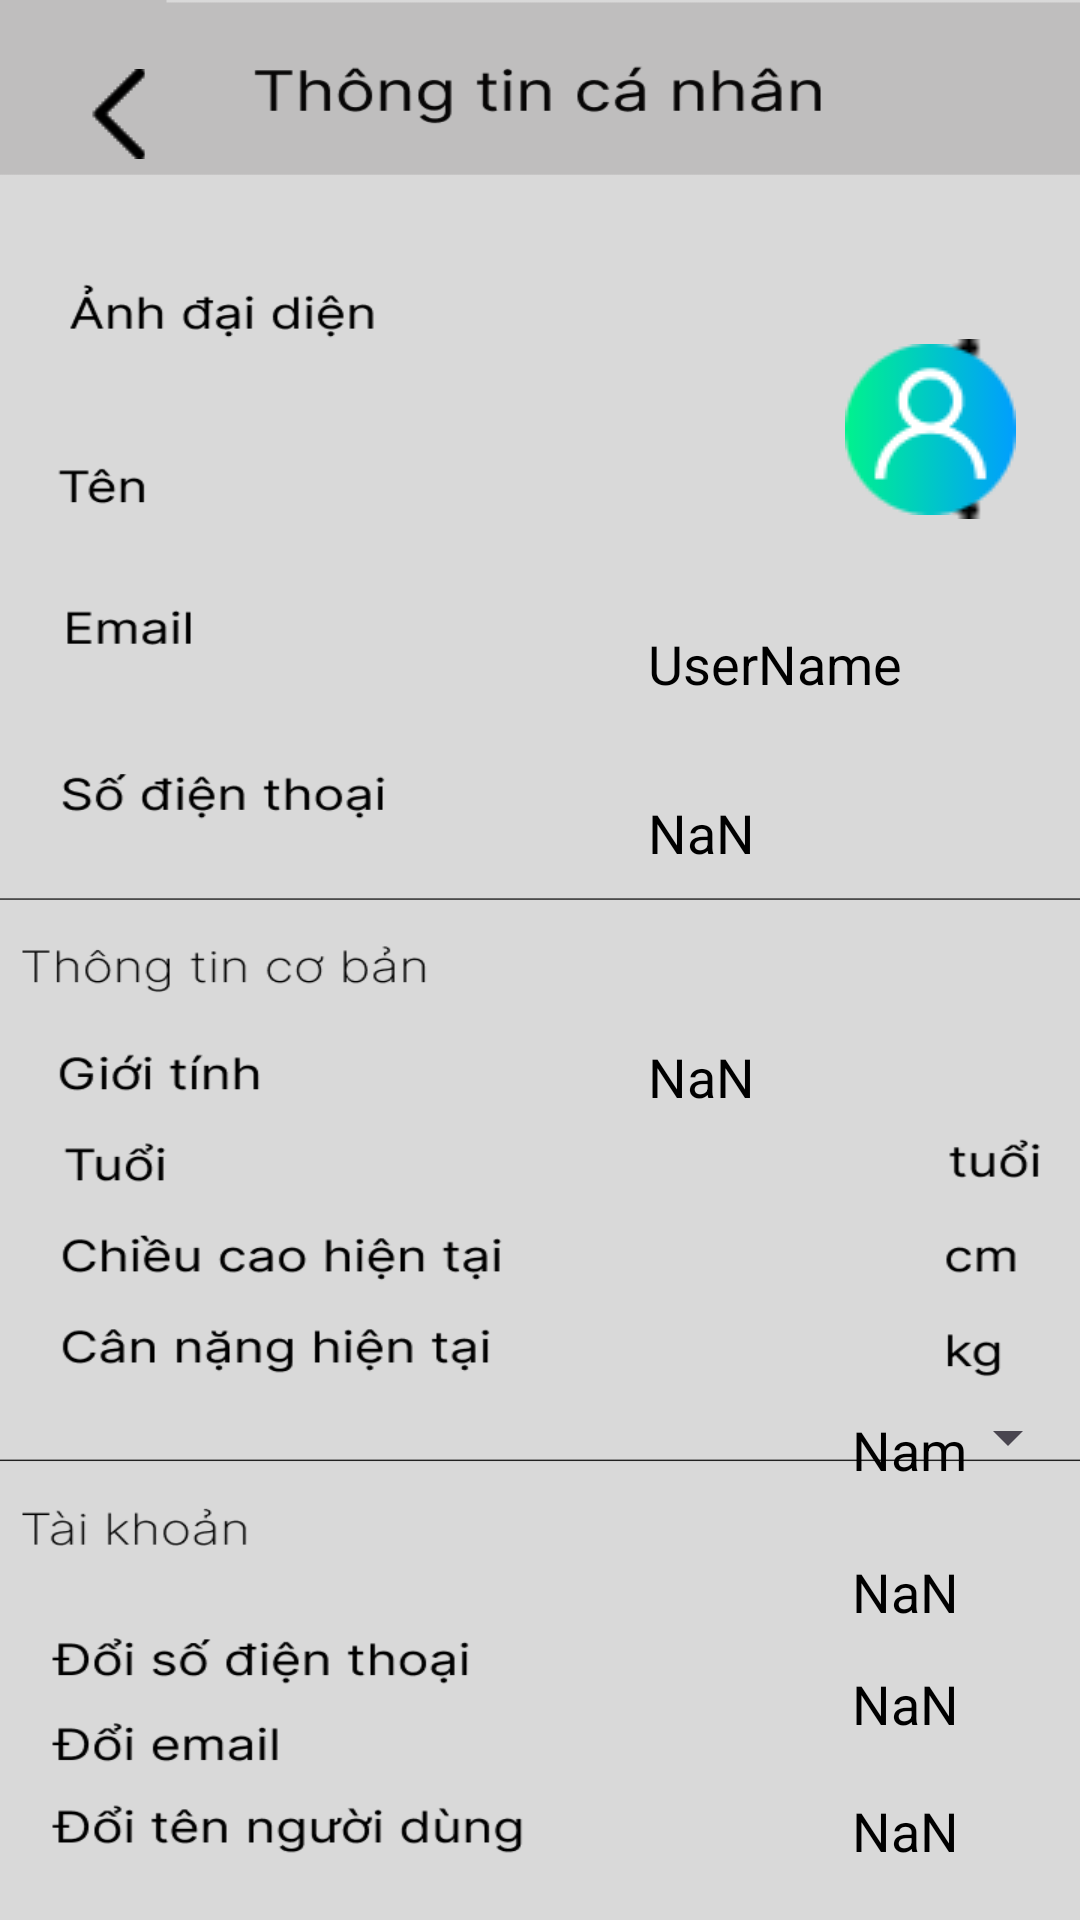

Point at icon controls on the screen. Image size 1080x1920, points as (x,y).
back: (118,114)
